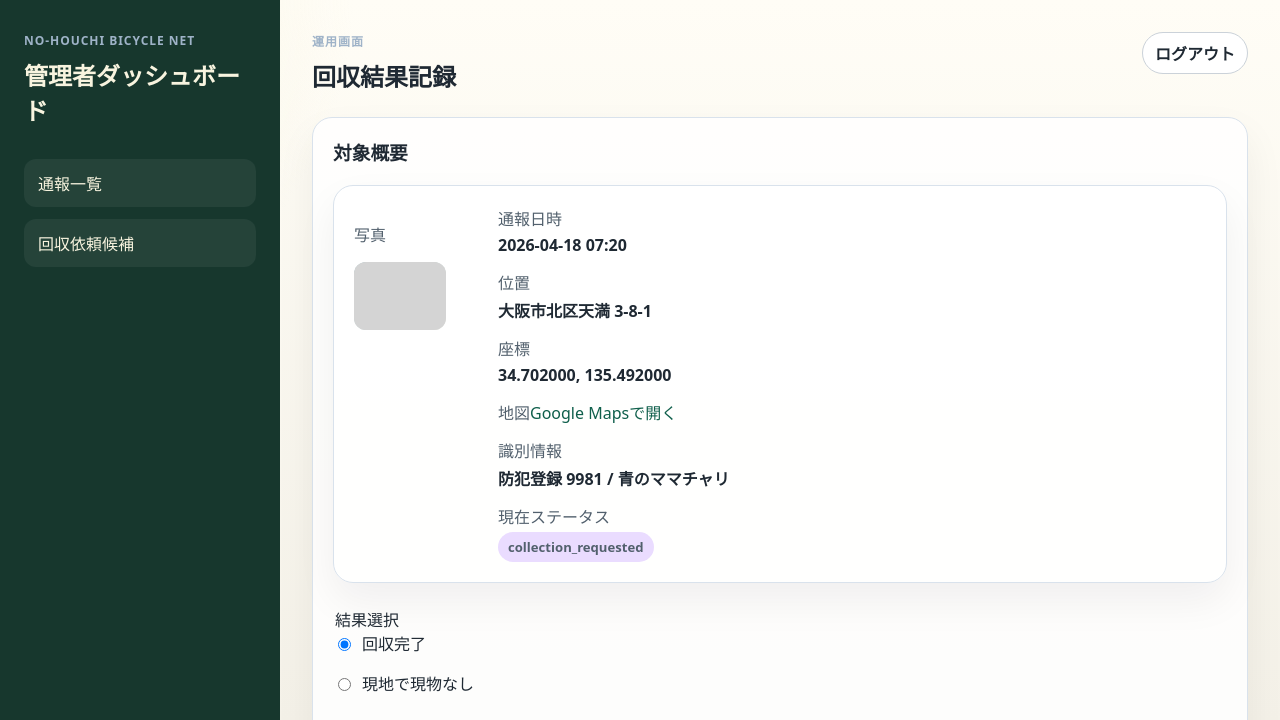
Test case: Admin Dashboard pages › records a not found result from the collection result page
The width and height of the screenshot is (1280, 720).
Click the radio button labelled "現地で現物なし": (344, 684) [338,678,351,691]
(page scrolled)
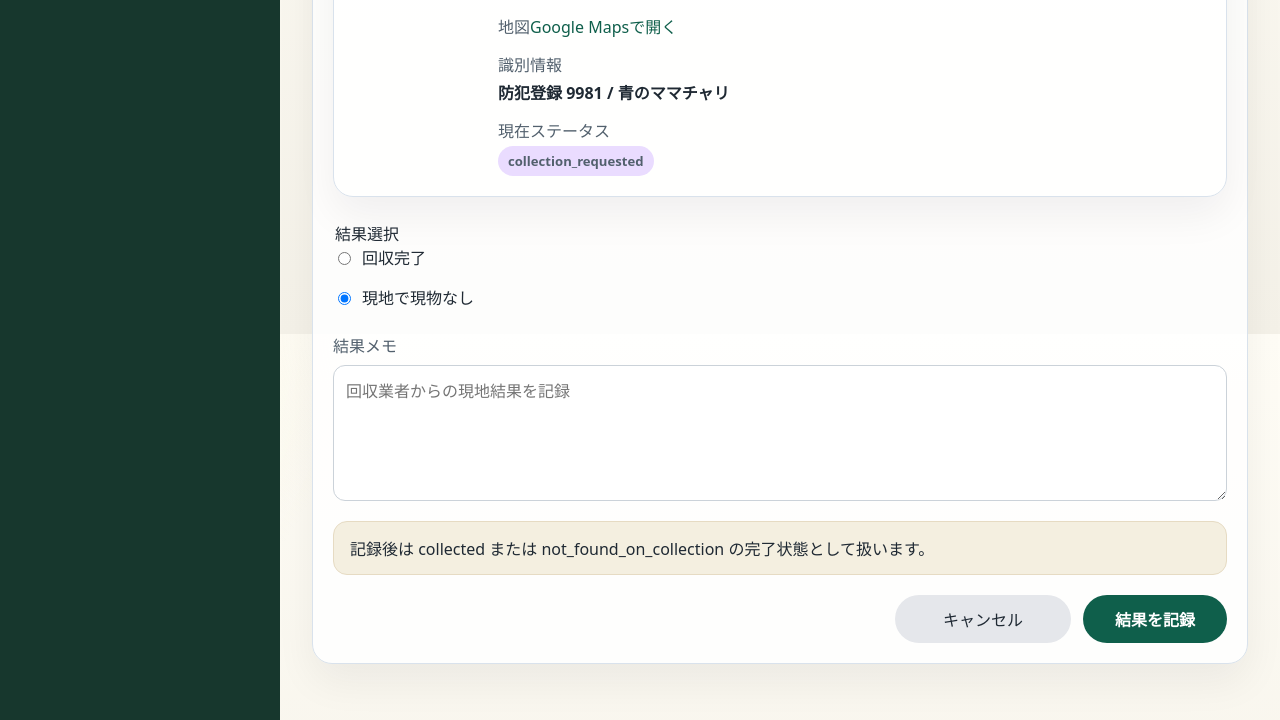
Click the button "結果を記録": (1155, 619) [1083,595,1227,643]
(page scrolled)
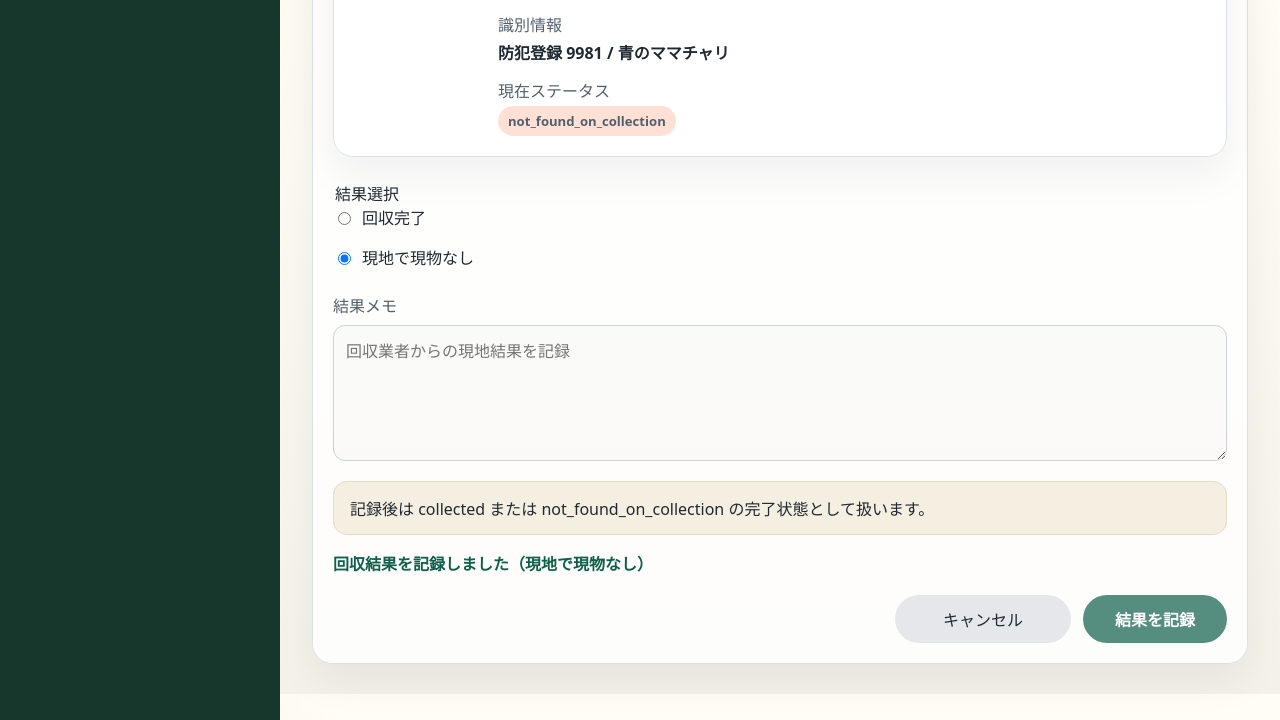
Expected: the text "回収結果を記録しました（現地で現物なし）" is shown, [333,553,653,575]
Expected: the text box labelled "結果メモ" is disabled, [333,325,1227,461]
Expected: the button "結果を記録" is disabled, [1083,595,1227,643]
